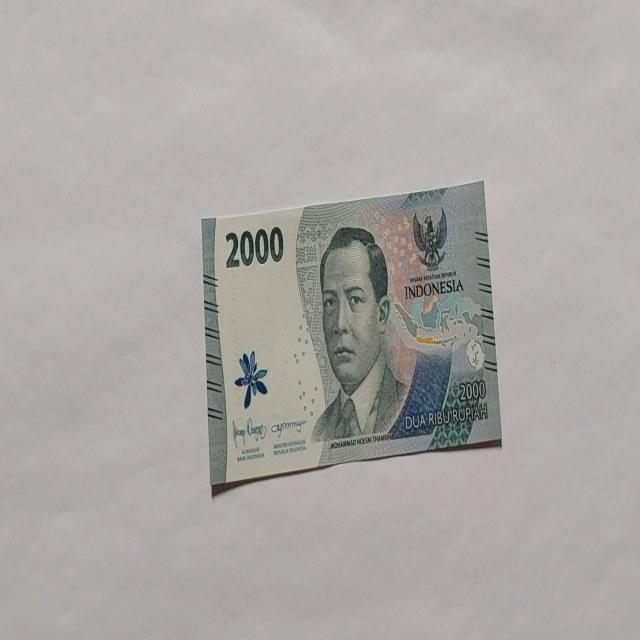dua ribu rupiah: (201, 178, 503, 494), (310, 224, 410, 446)
